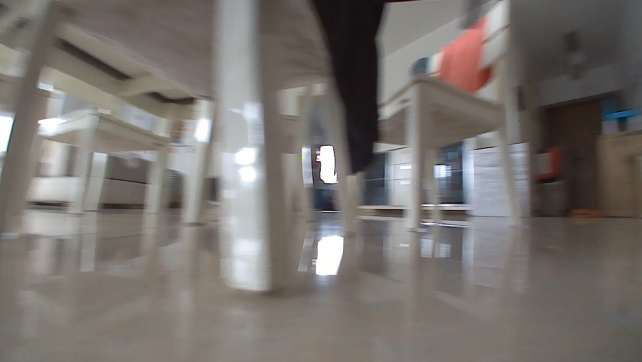dining_table1: (0, 0, 524, 292)
sofa1: (25, 152, 151, 211)
